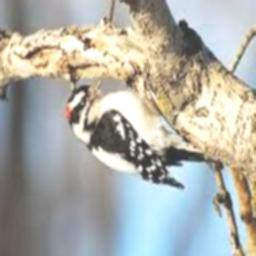Woodpecker: (67, 77, 224, 188)
